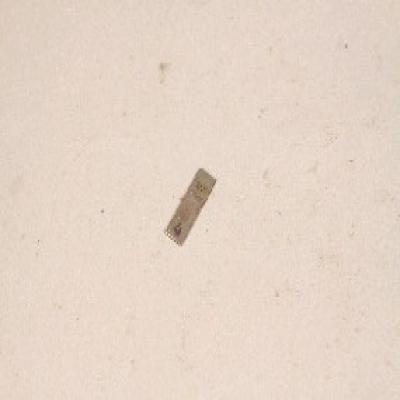technique: (163, 168, 218, 246)
